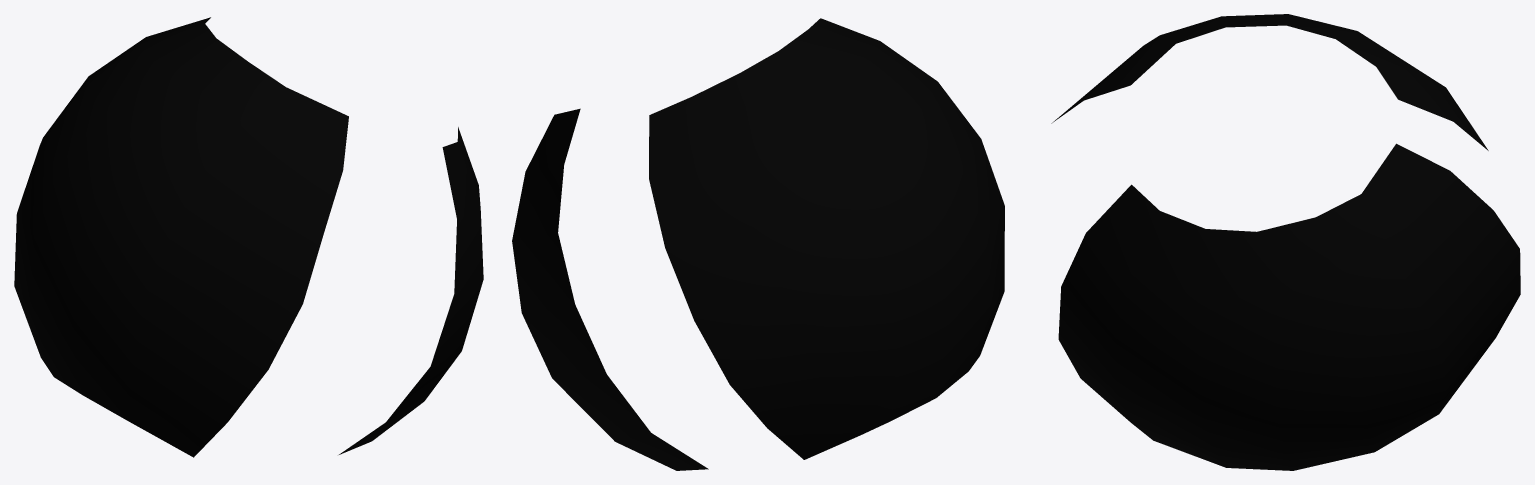
The model's file is bubble_solid_mountain.glb.
3 views of the same model, side by side, from view 1: azimuth 30°, elevation 25°; view 2: azimuth 150°, elevation 25°; view 3: azimuth 270°, elevation 25° (orthographic).
Visible parts, largest first — view 1: bubble_solid_texture.png__; view 2: bubble_solid_texture.png__; view 3: bubble_solid_texture.png__.
Boxes of the visible parts, left/top/right/bottom form: bubble_solid_texture.png__: left=14, top=17, right=483, bottom=457; bubble_solid_texture.png__: left=512, top=18, right=1004, bottom=470; bubble_solid_texture.png__: left=1051, top=14, right=1520, bottom=470.
Size of the model in its own units: 7.64 by 7.32 by 7.96.
1 material, 1 textured.
